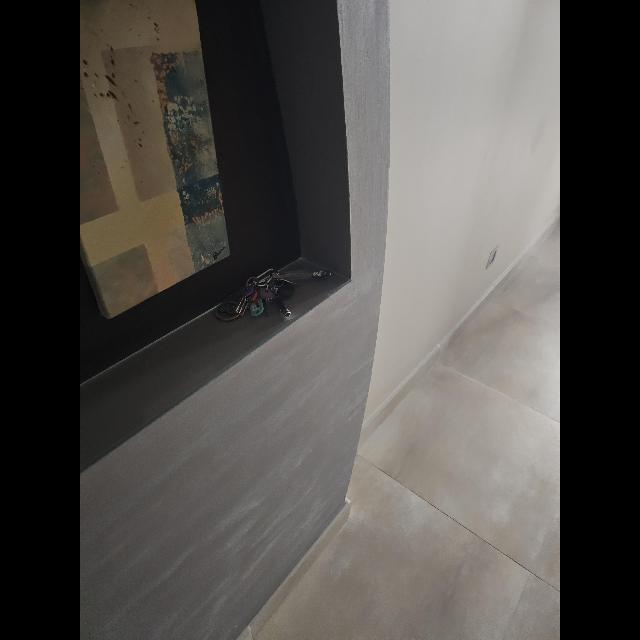Keys: (217, 266, 327, 320)
